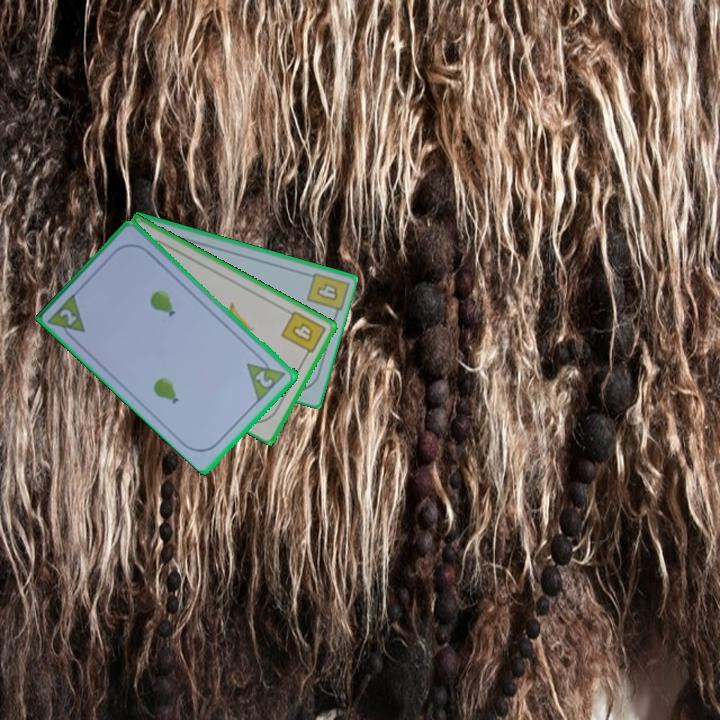2p: (45, 289, 89, 345), (252, 367, 276, 390)
4b: (278, 307, 329, 361), (313, 279, 341, 303)
